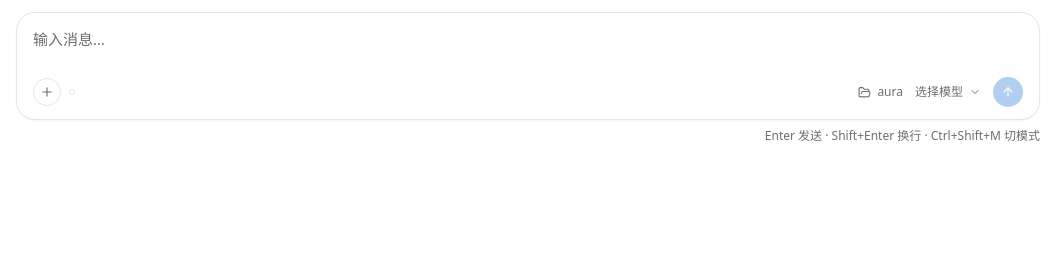
InputArea 的 @ / 触发 › /model 面板列已收藏模型，点选后清掉触发词
Type "/model" into the text box at x=528, y=49, box [33,25,1023,73]
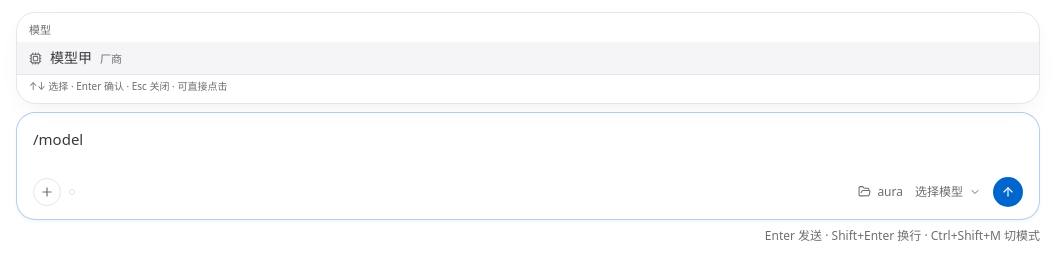
Click the text "模型甲" at x=71, y=58, box [50,48,92,68]
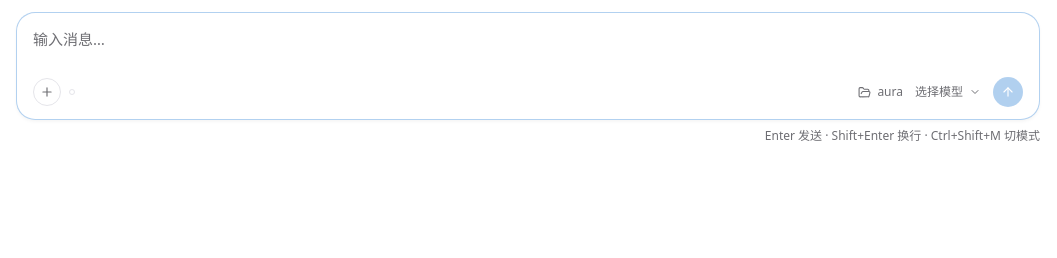
Now the text box is empty, box [33,25,1023,73]
